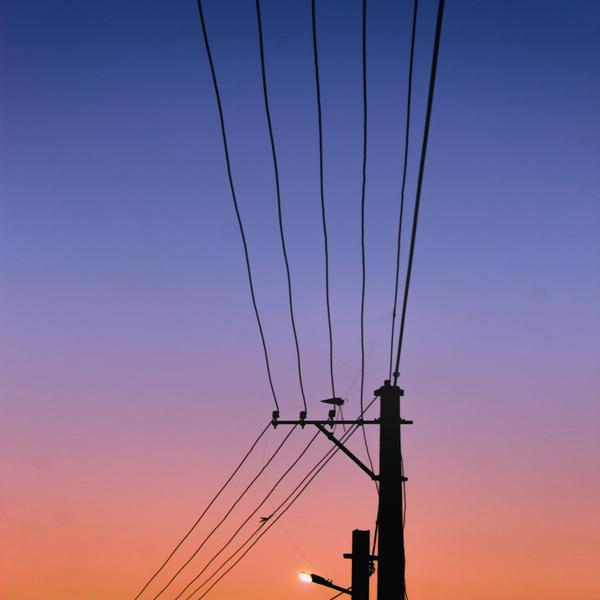utility_pole: (253, 356, 424, 494)
